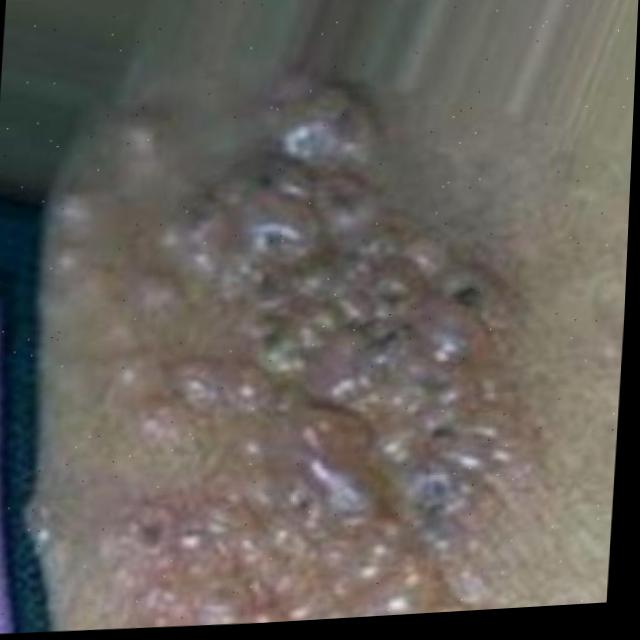Shingles: (46, 62, 525, 635)
